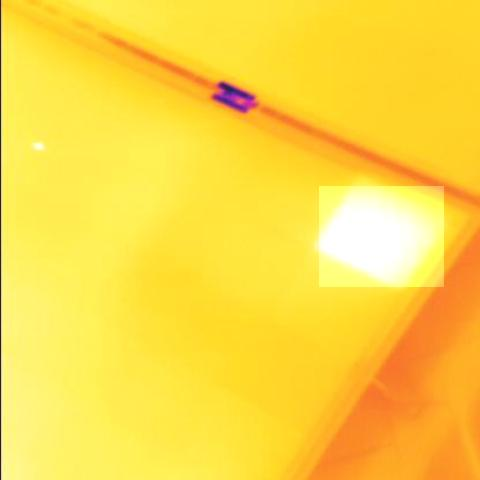fault: (319, 186, 444, 287)
